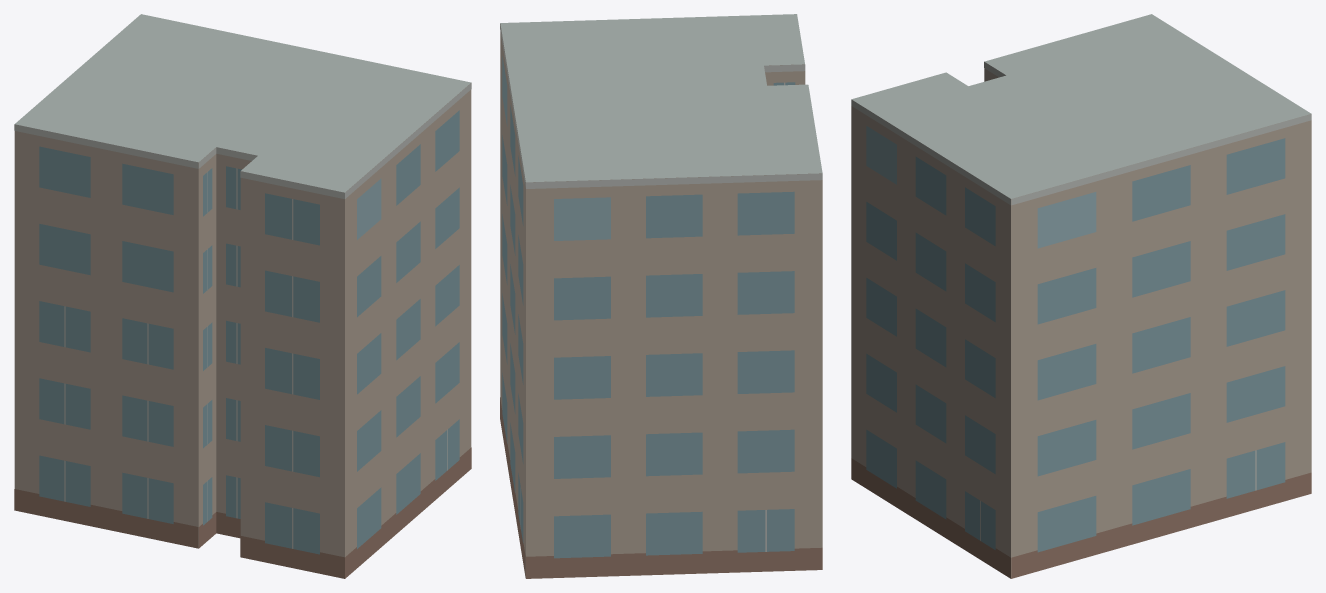
File: survey-upis-32957910.glb
The picture shows the model from 3 angles, left to right: view 1: azimuth 30°, elevation 25°; view 2: azimuth 150°, elevation 25°; view 3: azimuth 270°, elevation 25°; orthographic projection. The views are drawn at different scales.
Parts seen in each view (by area): view 1: survey-upis-32957910.tmp; view 2: survey-upis-32957910.tmp; view 3: survey-upis-32957910.tmp.
Part boxes in pixels (x1,y1,x2,y2): survey-upis-32957910.tmp: (14,14,471,578); survey-upis-32957910.tmp: (500,14,822,578); survey-upis-32957910.tmp: (851,14,1311,578).
Size of the model in its own units: 14.95 by 14.3 by 15.71.
